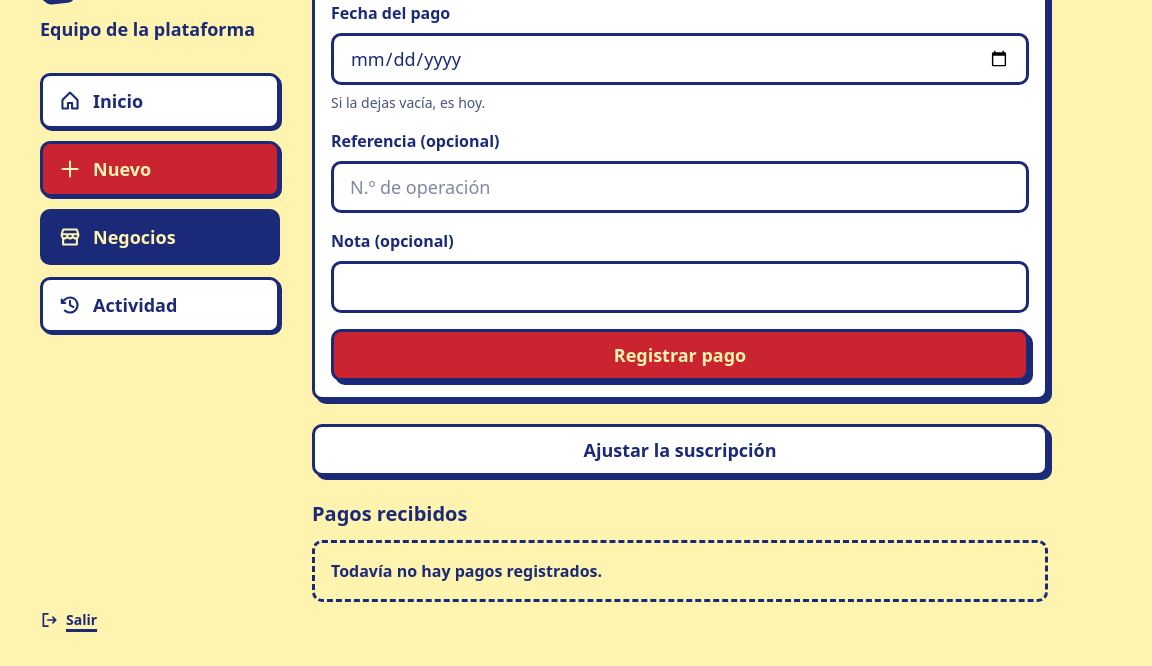
Test: recording a payment › sends it and says what the payment bought
(page scrolled)
Click the button "Registrar pago" at {"x": 680, "y": 355}, box [331,329,1029,381]
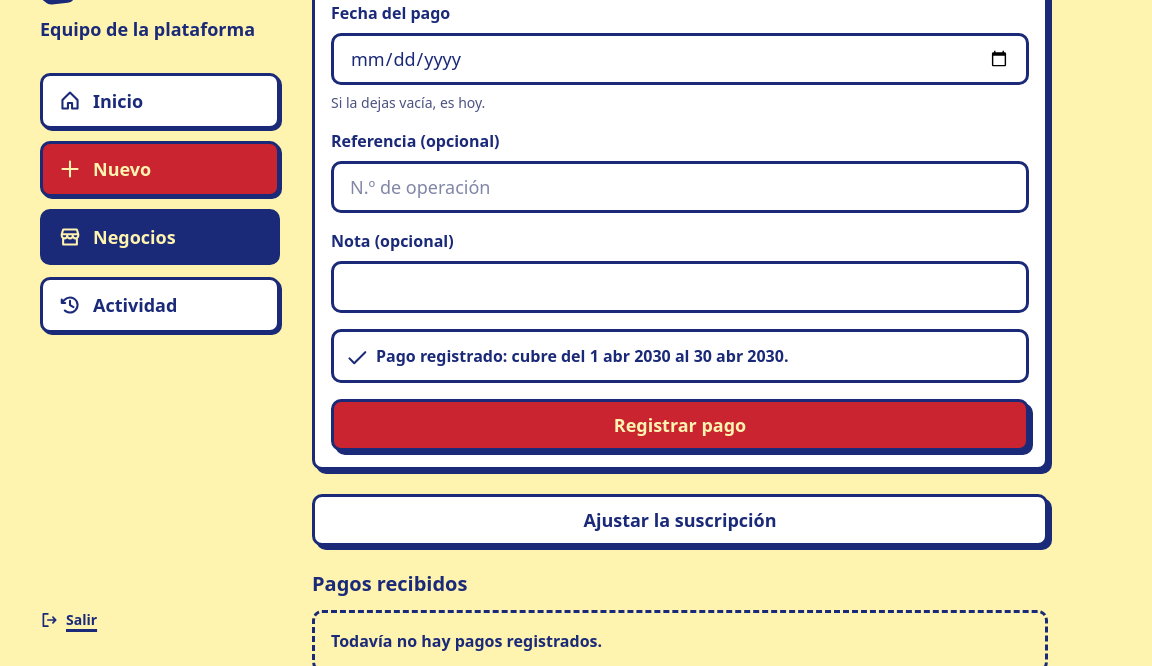
Now the message reads "Pago registrado: cubre del 1 abr 2030 al 30 abr 2030.", box [331,329,1029,383]
